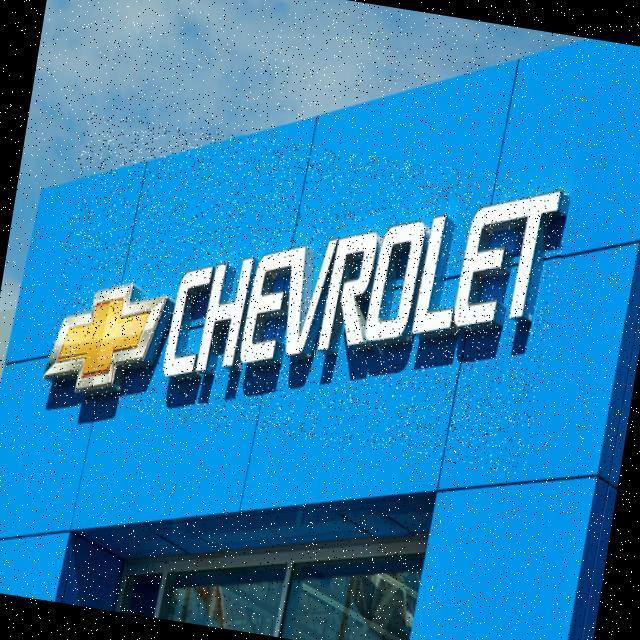Chevrolet: (41, 111, 572, 476)
